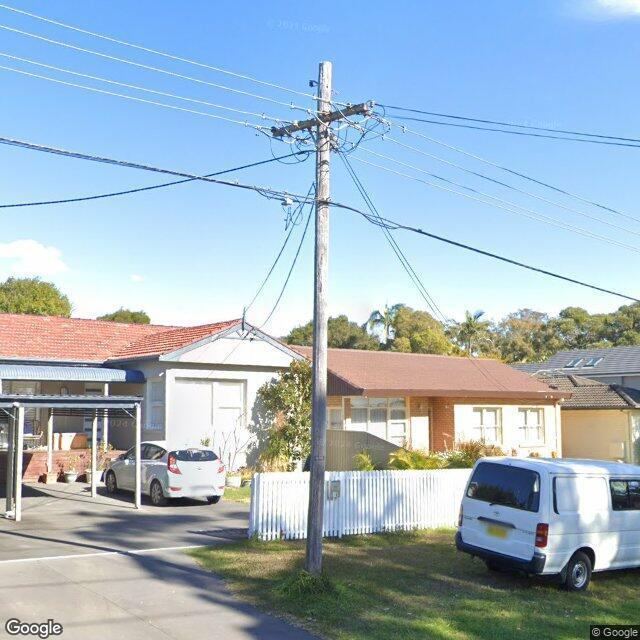crossarm: (272, 101, 370, 136)
timber-pole: (304, 63, 332, 577)
